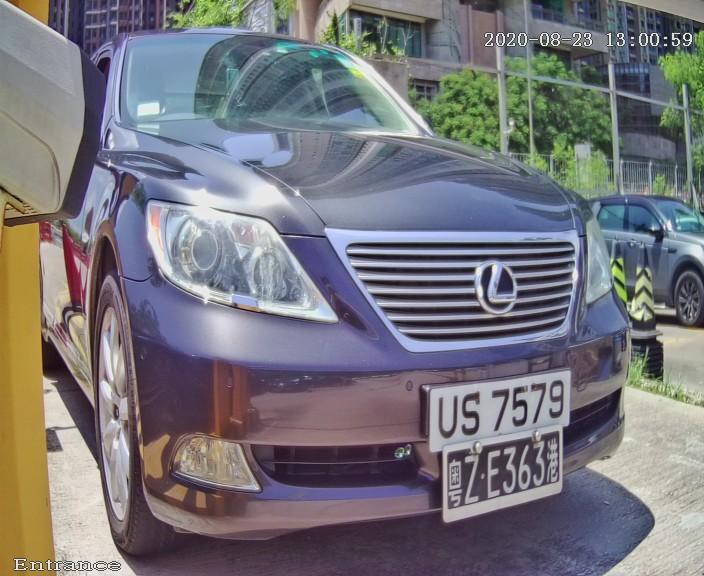License Plate: (415, 361, 576, 479)
